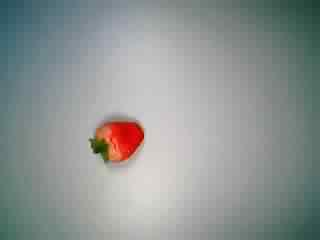strawberry: (83, 112, 151, 175)
